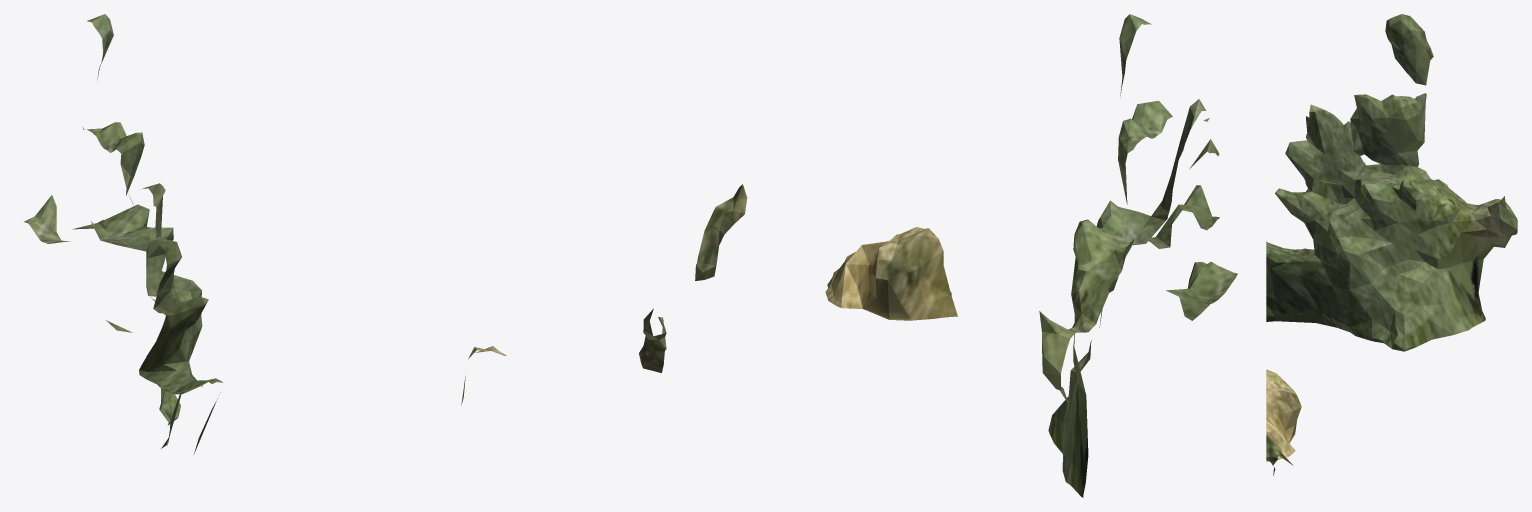
3 views of the same model, side by side, from view 1: azimuth 30°, elevation 25°; view 2: azimuth 150°, elevation 25°; view 3: azimuth 270°, elevation 25° (orthographic). The views are drawn at different scales.
Size of the model in its own units: 11.8 by 9.6 by 7.05.
1 material, 1 textured.
